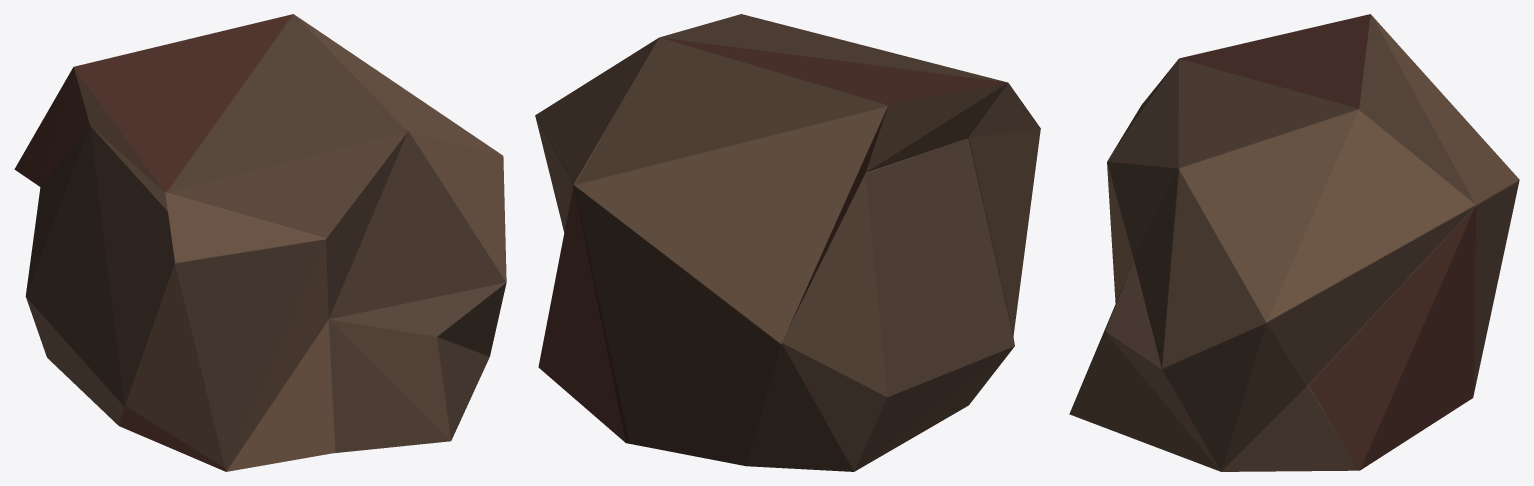
The model's file is Rock_Iteration_5.obj.
3 renders of one model, left to right at view 1: azimuth 30°, elevation 25°; view 2: azimuth 150°, elevation 25°; view 3: azimuth 270°, elevation 25°, orthographic. The views are drawn at different scales.
Visible parts, largest first — view 1: Rock_Iteration_5; view 2: Rock_Iteration_5; view 3: Rock_Iteration_5.
Part boxes in pixels (box(x1,y1,x2,y2)): Rock_Iteration_5: box(14, 14, 506, 471); Rock_Iteration_5: box(535, 14, 1040, 471); Rock_Iteration_5: box(1069, 14, 1519, 471).
Size of the model in its own units: 128 by 98.23 by 129.
